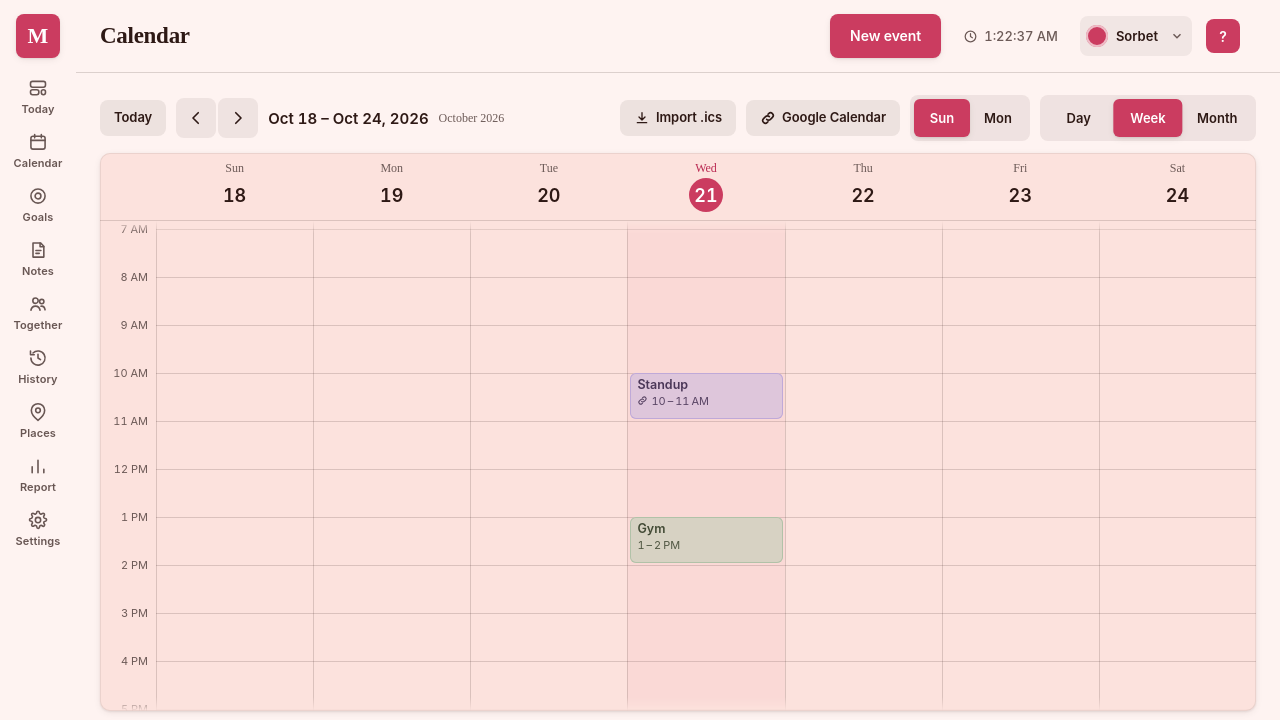
Scenario: events from Google on the calendar › do not move when dragged, and open read-only
The image size is (1280, 720).
(page scrolled)
Press the mouse on the element named "Standup, " at (706, 396), box [630,373,782,419]
Click the button with aria-label "Standup, ". click: (706, 396)
box: [630,373,782,419]
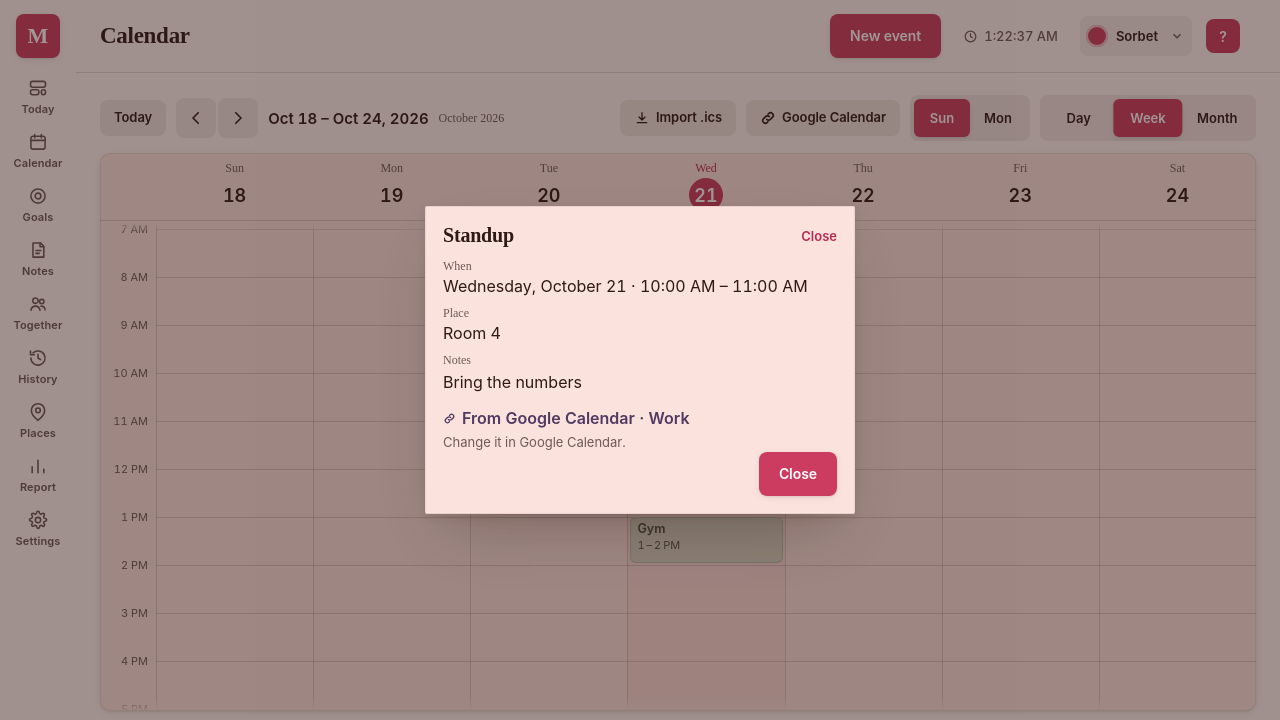
Result: the text "From Google Calendar · Work" is shown at [462,408,690,428]
Result: the text "Change it in Google Calendar." is shown at [443,434,626,450]
Result: the text "Room 4" is shown at [443,323,501,343]
